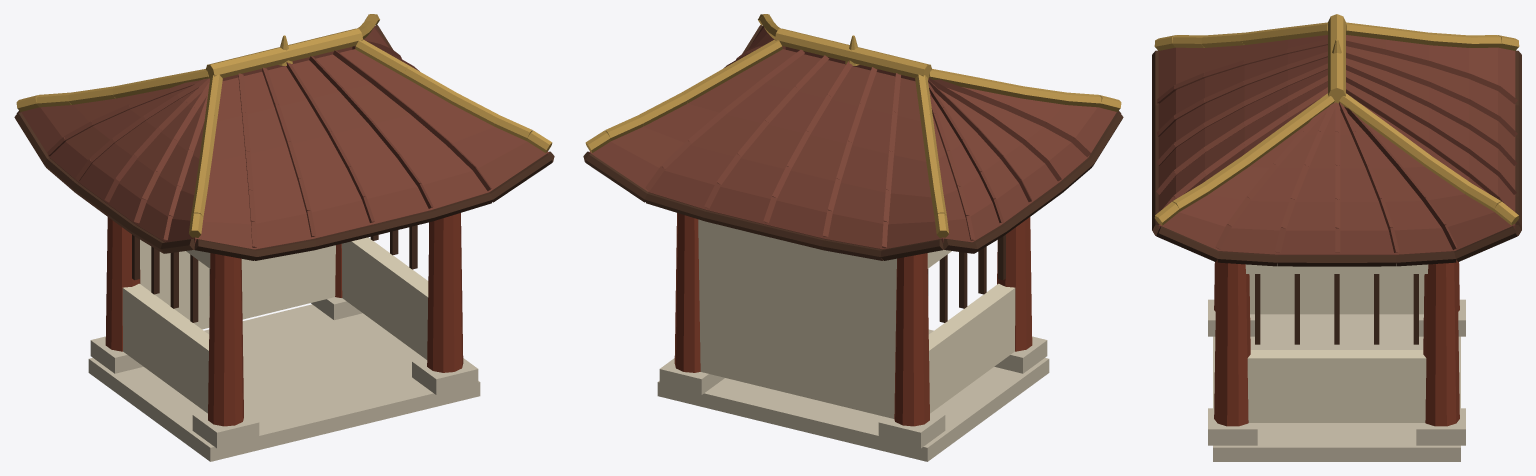
The model's file is tinh-that-blender.glb.
3 renders of one model, left to right at view 1: azimuth 30°, elevation 25°; view 2: azimuth 150°, elevation 25°; view 3: azimuth 270°, elevation 25°, orthographic.
Visible parts, largest first — view 1: tinh-that-blender-tile, tinh-that-blender-stone, tinh-that-blender-plaster, tinh-that-blender-timber, tinh-that-blender-gold, tinh-that-blender-darkwood; view 2: tinh-that-blender-tile, tinh-that-blender-plaster, tinh-that-blender-stone, tinh-that-blender-timber, tinh-that-blender-gold, tinh-that-blender-darkwood; view 3: tinh-that-blender-tile, tinh-that-blender-plaster, tinh-that-blender-stone, tinh-that-blender-gold, tinh-that-blender-timber, tinh-that-blender-darkwood.
Part boxes in pixels (x1,y1,x2,y2): tinh-that-blender-tile: [20, 26, 548, 249]; tinh-that-blender-stone: [88, 297, 480, 461]; tinh-that-blender-plaster: [122, 237, 428, 413]; tinh-that-blender-timber: [105, 213, 463, 426]; tinh-that-blender-gold: [16, 14, 552, 237]; tinh-that-blender-darkwood: [14, 25, 554, 322]; tinh-that-blender-tile: [589, 26, 1117, 249]; tinh-that-blender-plaster: [698, 219, 1015, 418]; tinh-that-blender-stone: [657, 329, 1049, 461]; tinh-that-blender-timber: [674, 213, 1032, 426]; tinh-that-blender-gold: [585, 14, 1121, 237]; tinh-that-blender-darkwood: [583, 25, 1123, 322]; tinh-that-blender-tile: [1156, 35, 1517, 263]; tinh-that-blender-plaster: [1245, 264, 1428, 422]; tinh-that-blender-stone: [1208, 299, 1465, 461]; tinh-that-blender-gold: [1154, 14, 1519, 225]; tinh-that-blender-timber: [1214, 260, 1459, 426]; tinh-that-blender-darkwood: [1152, 50, 1521, 344].
Size of the model in its own units: 4.33 by 3.95 by 3.73.
